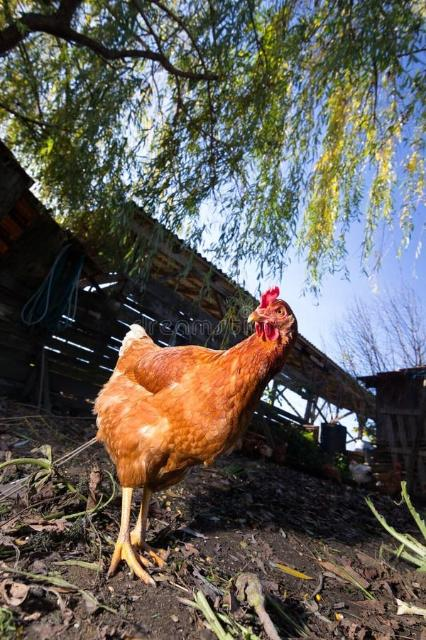Chicken: (90, 288, 300, 582)
